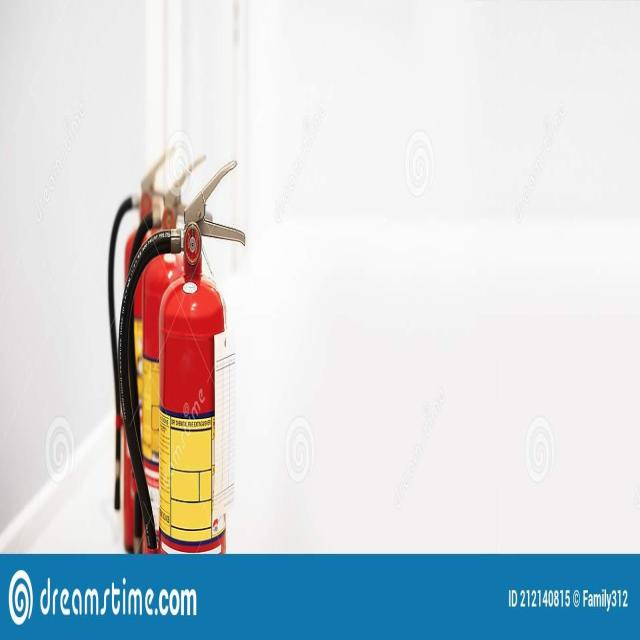fire_extinguisher: (117, 156, 251, 554), (117, 148, 217, 557)
